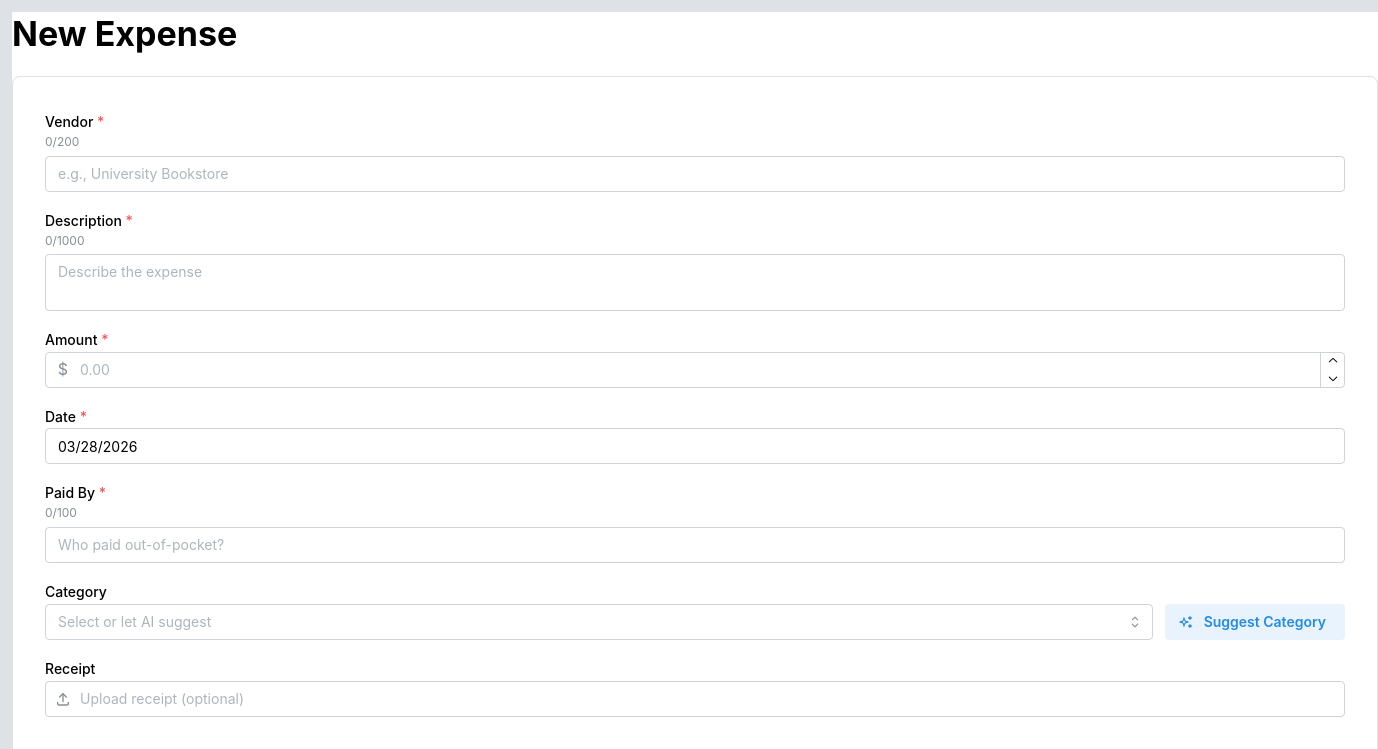
it: Character limits (#80) › Character counters › updates paid by counter as user types
Step 1. Type "John" into the field labelled "Paid By *" → (695, 545), box [45, 527, 1345, 563]
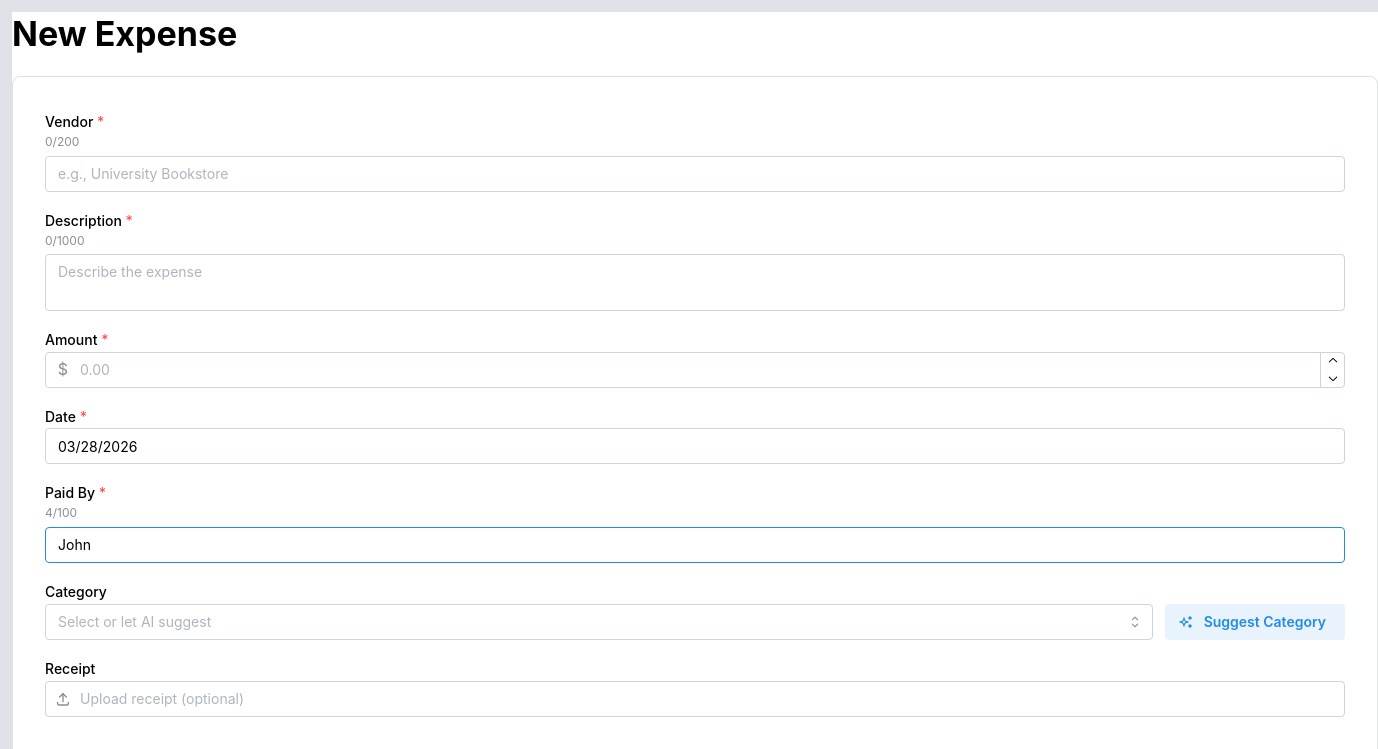
Check: the text "4/100" is shown, box [45, 505, 77, 520]
